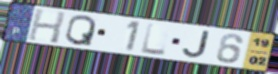1: (125, 20, 142, 53)
6: (215, 32, 245, 64)
H: (26, 7, 68, 45)
J: (181, 30, 211, 60)
L: (140, 22, 167, 56)
Q: (63, 14, 98, 47)
